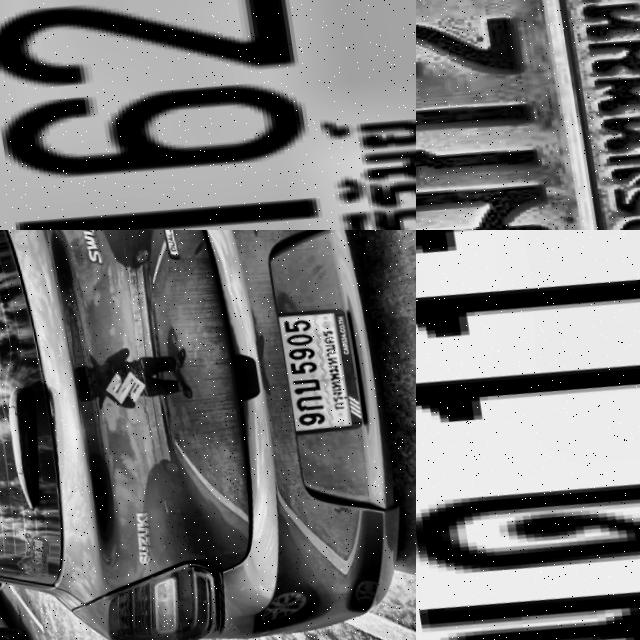license-plate: (0, 0, 416, 230), (416, 230, 640, 640), (416, 0, 640, 230), (272, 297, 367, 434)
